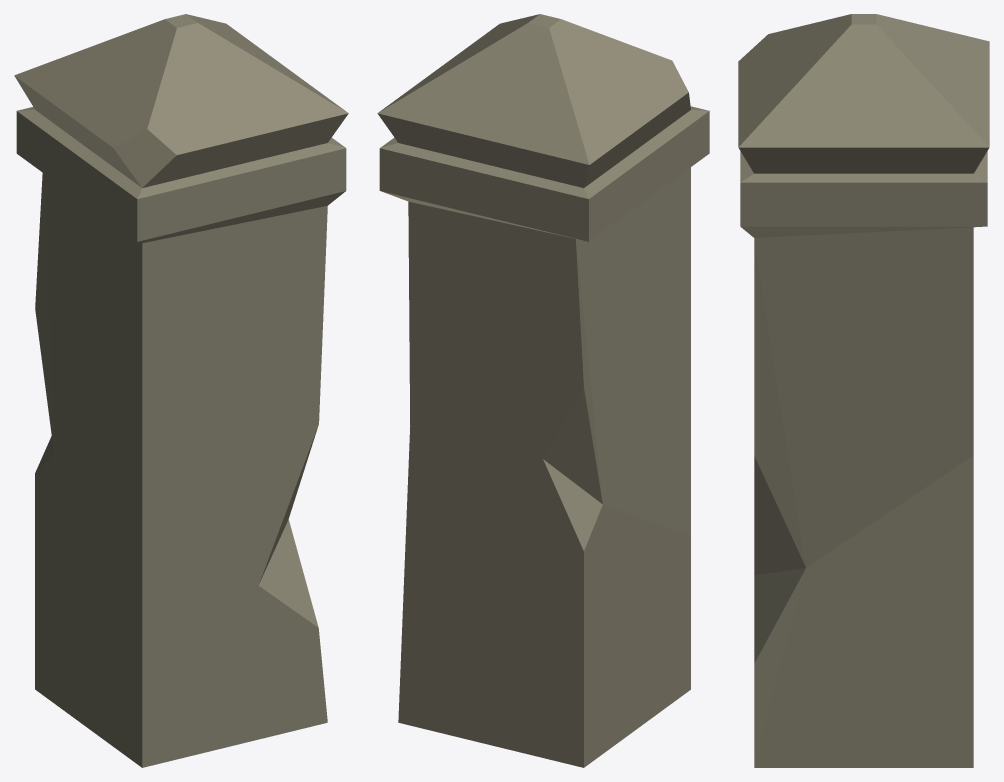
Rendered from Pillar.fbx.
The picture shows the model from 3 angles, left to right: view 1: azimuth 30°, elevation 25°; view 2: azimuth 150°, elevation 25°; view 3: azimuth 270°, elevation 25°; orthographic projection. The views are drawn at different scales.
Parts seen in each view (by area): view 1: Pillar; view 2: Pillar; view 3: Pillar.
Part boxes in pixels (bbox=[...]): Pillar: bbox=[14, 14, 348, 767]; Pillar: bbox=[377, 14, 709, 767]; Pillar: bbox=[738, 14, 989, 767].
Bounding box in the file's own units: 65.46 × 202 × 65.46.
